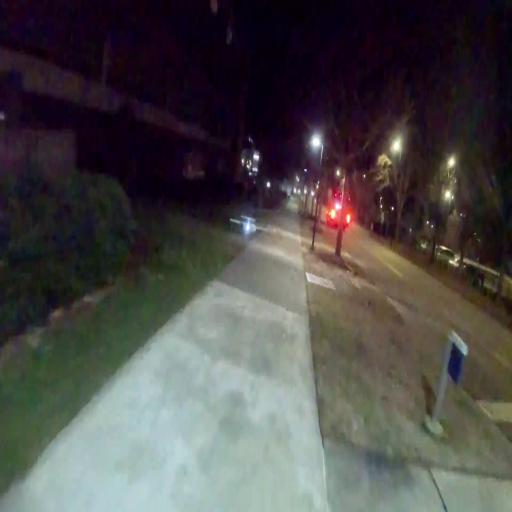uav: (230, 215, 268, 235)
